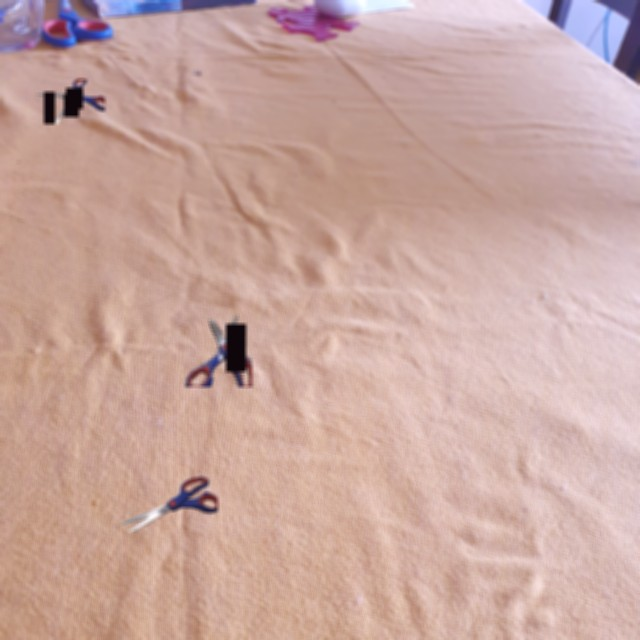scissors: (121, 477, 218, 532), (185, 315, 252, 387), (36, 79, 105, 124)
